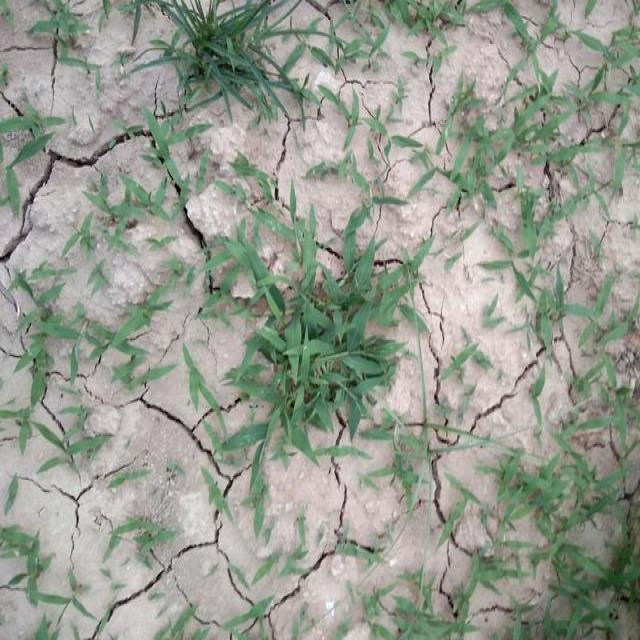weed: (236, 238, 400, 467), (5, 251, 176, 467), (428, 78, 612, 220), (130, 0, 315, 138), (499, 248, 636, 409), (0, 88, 54, 230)
